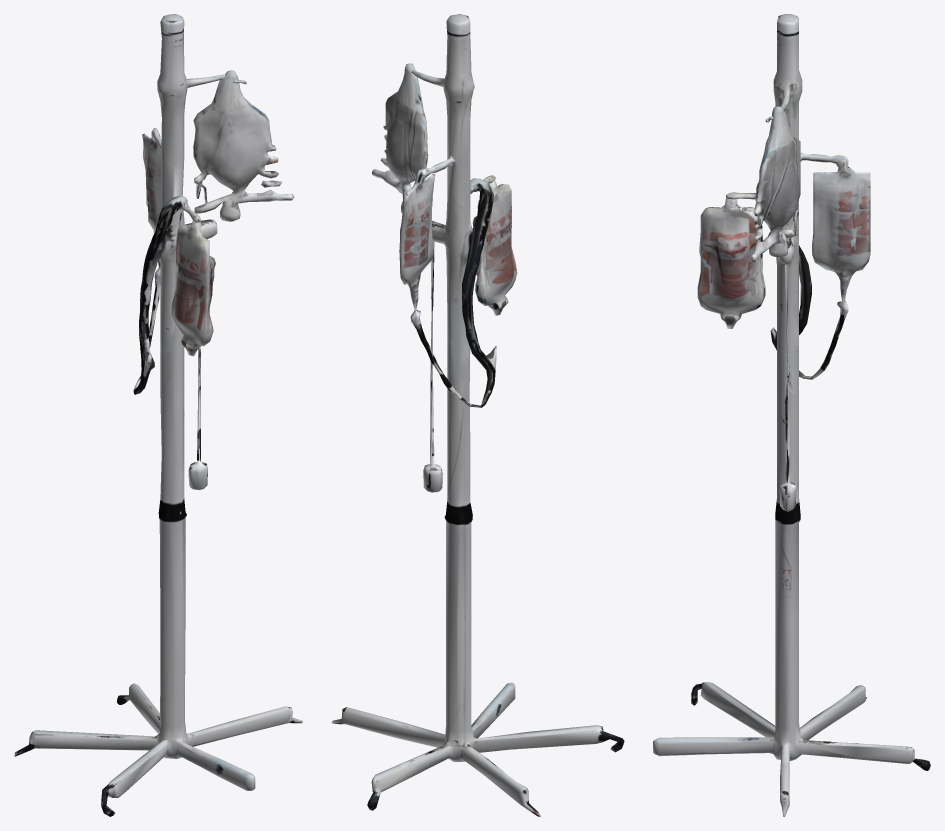
The model's file is ivpolewithbag3.fbx.
3 renders of one model, left to right at view 1: azimuth 30°, elevation 25°; view 2: azimuth 150°, elevation 25°; view 3: azimuth 270°, elevation 25°, orthographic.
Visible parts, largest first — view 1: tripo_node_b1df3231; view 2: tripo_node_b1df3231; view 3: tripo_node_b1df3231.
Boxes of the visible parts, x1,y1,x2,y2 form: tripo_node_b1df3231: (14,14,302,816); tripo_node_b1df3231: (331,14,624,816); tripo_node_b1df3231: (653,14,930,816).
Bounding box in the file's own units: 33.04 × 94.73 × 31.94.
1 material, 1 textured.
